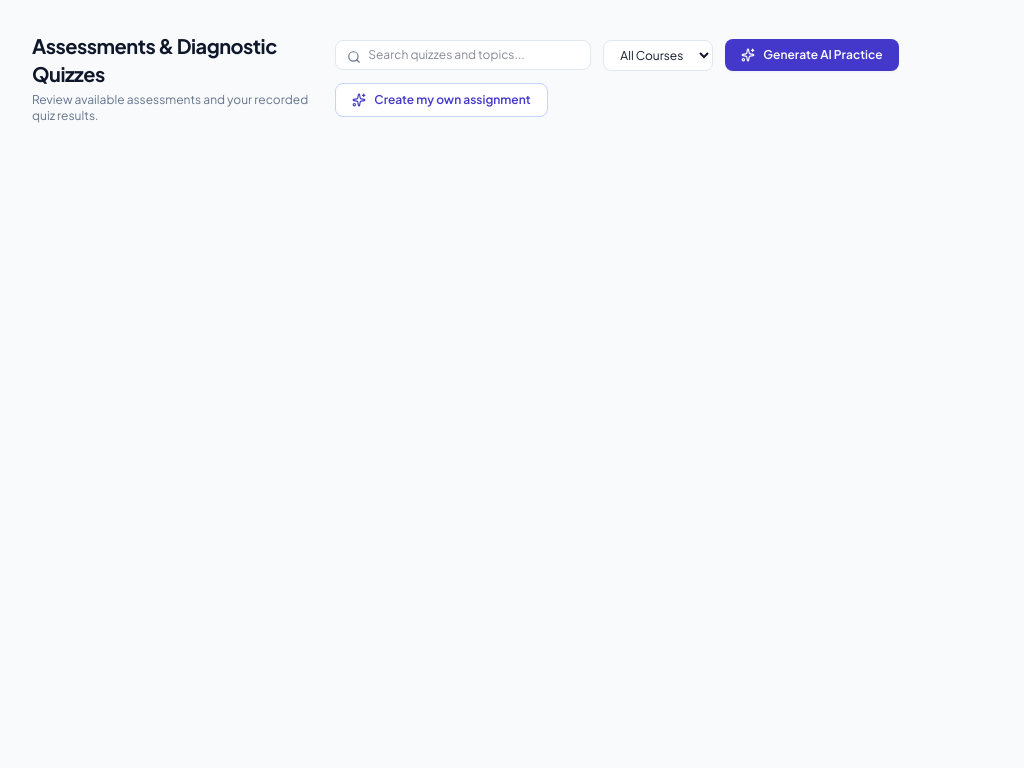
Test: assignment module › opens custom assignment generation from the Assignment module
The width and height of the screenshot is (1024, 768).
Click the button "Create my own assignment" at (441, 100), box left=335, top=83, right=548, bottom=117
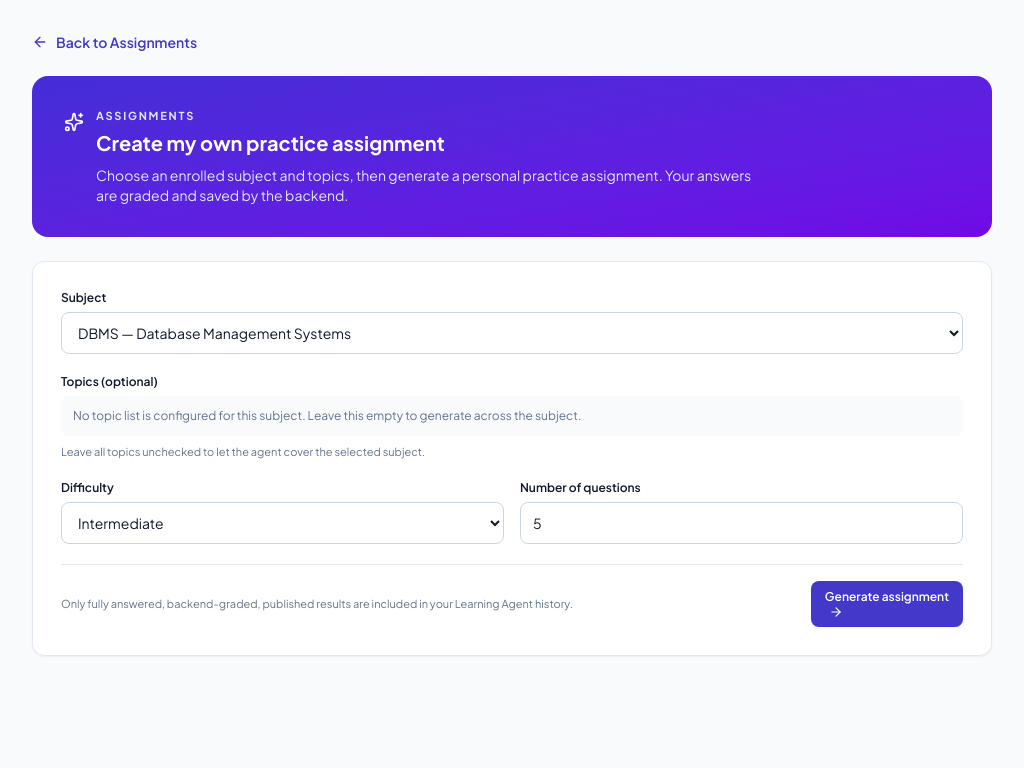
Expected: the heading "Create my own practice assignment" is shown, left=96, top=130, right=445, bottom=154
Expected: the button "Back to Assignments" is shown, left=32, top=32, right=197, bottom=52
